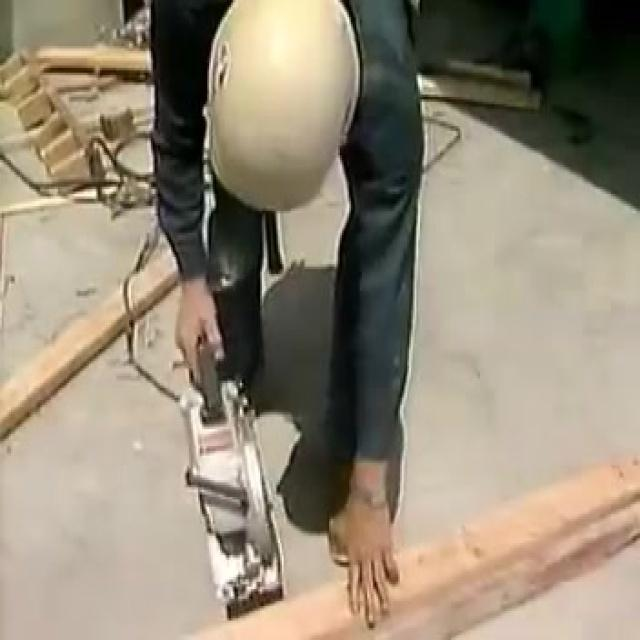helmet: (202, 0, 364, 291)
